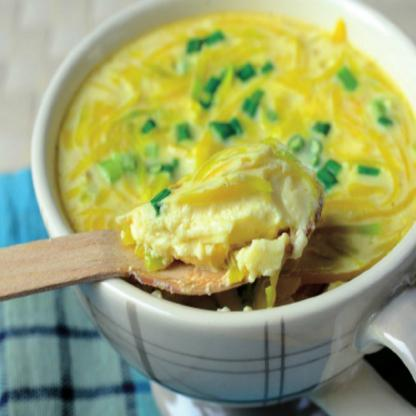Kaithoon: (36, 20, 416, 336)
